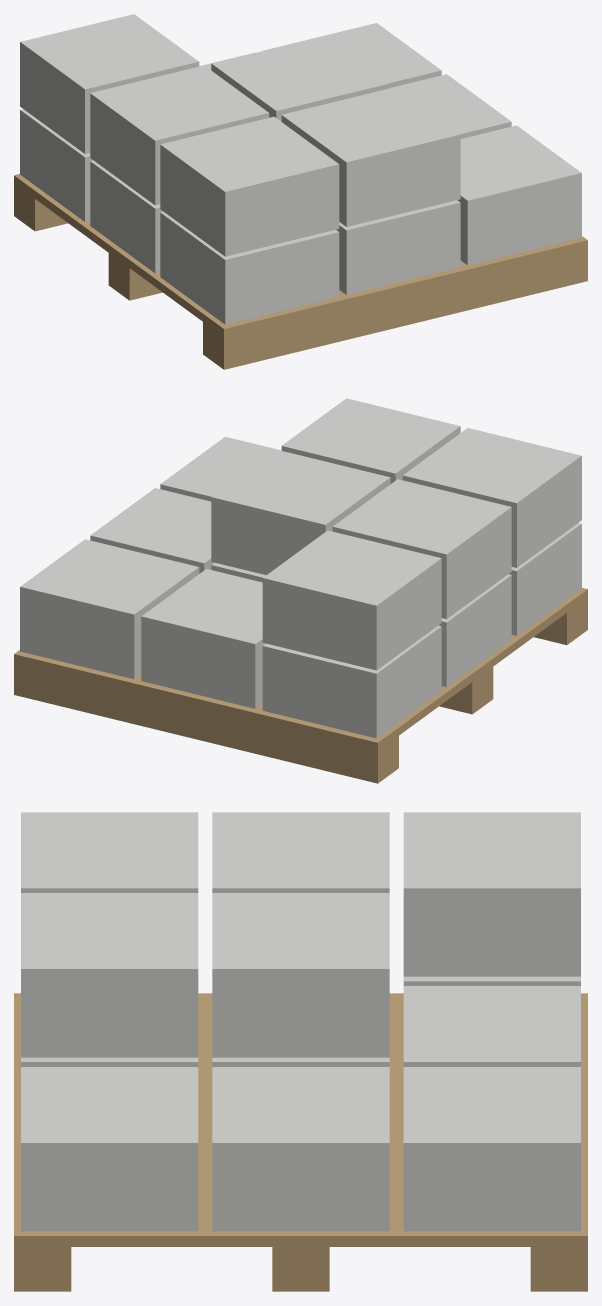
Rendered from pallet_mp_14.glb.
3 renders of one model, top to bottom at view 1: azimuth 30°, elevation 25°; view 2: azimuth 150°, elevation 25°; view 3: azimuth 270°, elevation 25°, orthographic. The views are drawn at different scales.
Visible parts, largest first — view 1: PalletMP; view 2: PalletMP; view 3: PalletMP.
Part boxes in pixels (x1,y1,x2,y2): PalletMP: [14, 14, 587, 369]; PalletMP: [14, 398, 587, 783]; PalletMP: [14, 812, 587, 1291].
Bounding box in the file's own units: 1 × 0.46 × 1.
